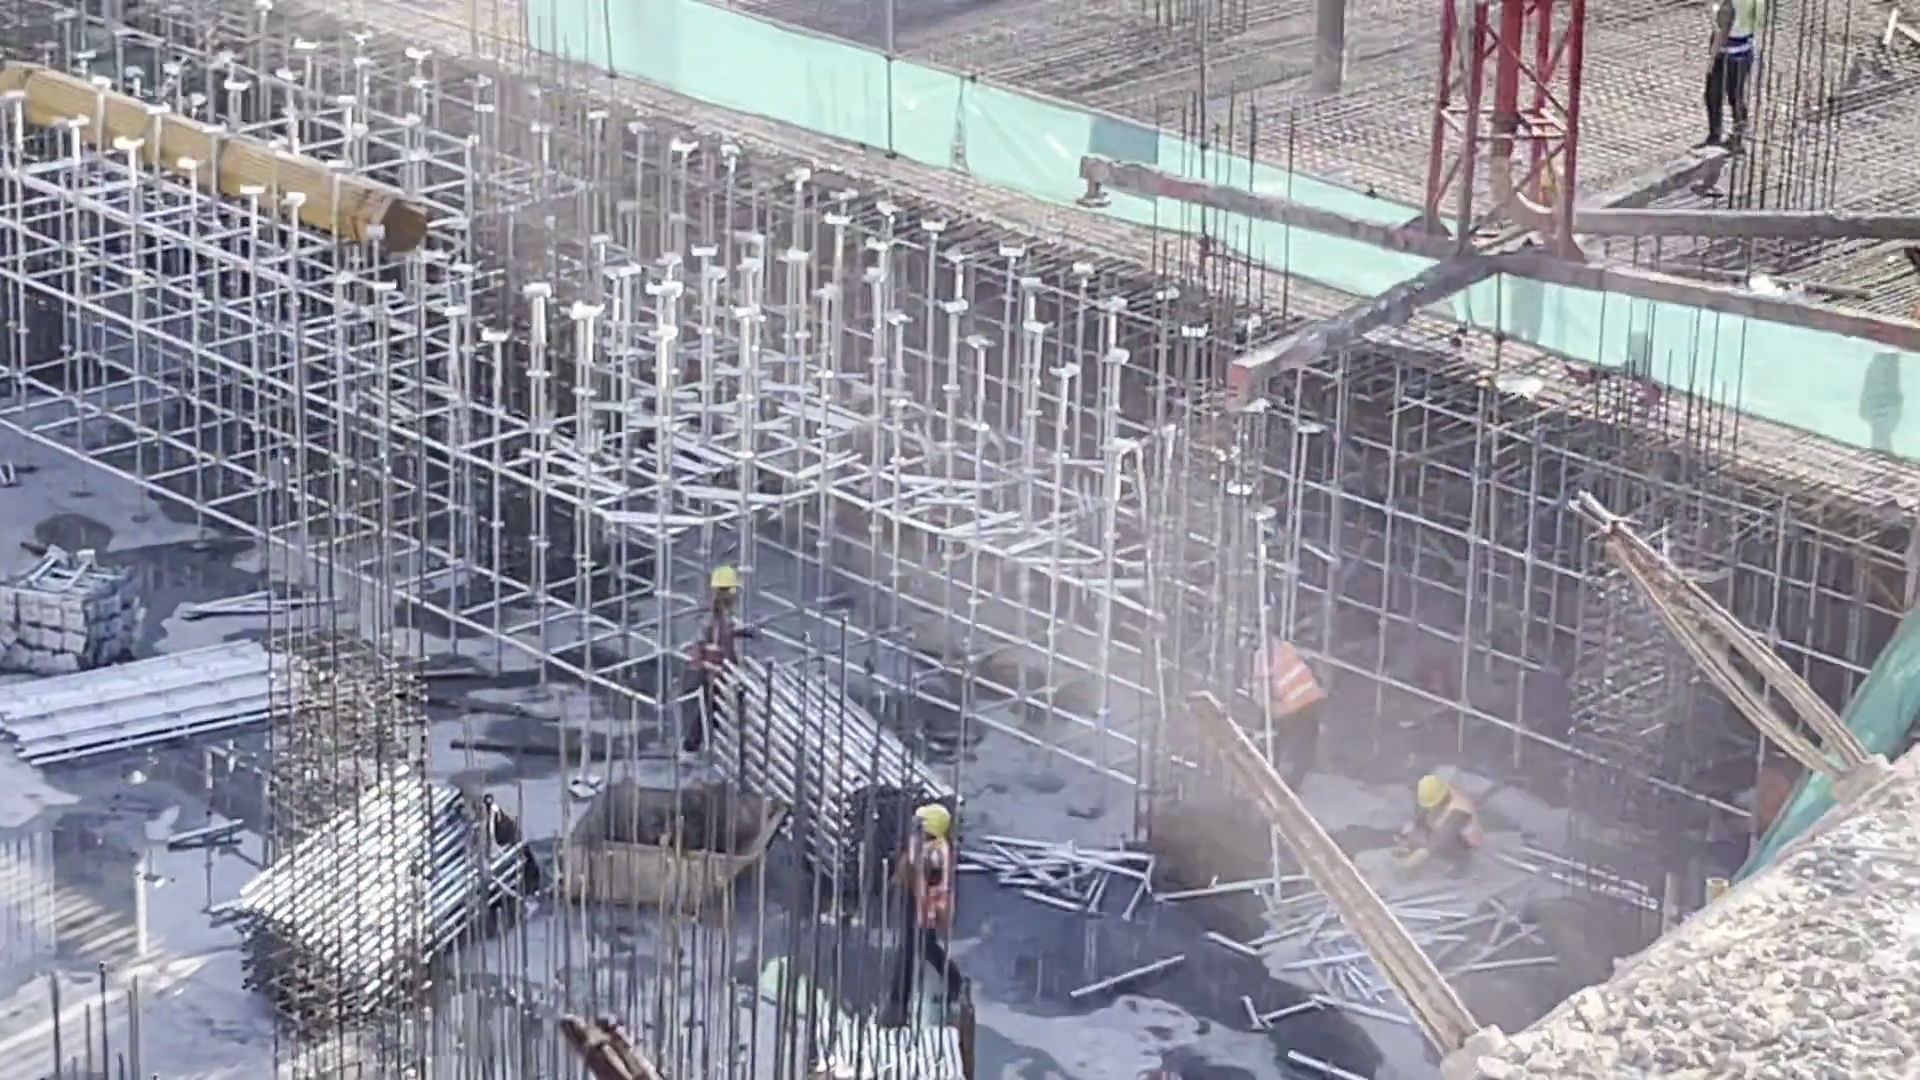helmet: (700, 567, 750, 603), (1415, 769, 1450, 815), (912, 807, 958, 840)
hopper: (552, 795, 779, 905)
person: (880, 793, 974, 1037), (677, 560, 754, 776), (1244, 628, 1333, 780), (1689, 1, 1772, 165), (1395, 772, 1491, 878)
scaffold: (248, 779, 511, 981), (708, 677, 901, 871), (20, 632, 279, 765), (808, 1020, 962, 1080)
vest: (896, 847, 950, 942), (689, 612, 742, 684), (1256, 653, 1312, 718), (1715, 4, 1756, 60), (1434, 804, 1475, 859)
